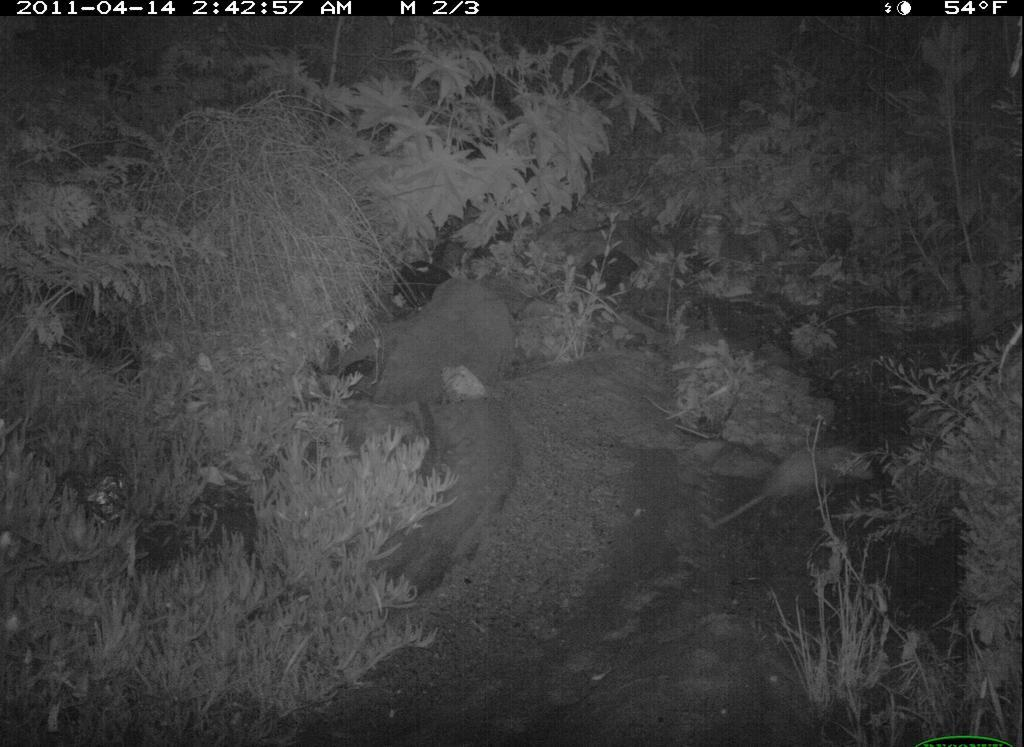opossum: (703, 437, 886, 534)
